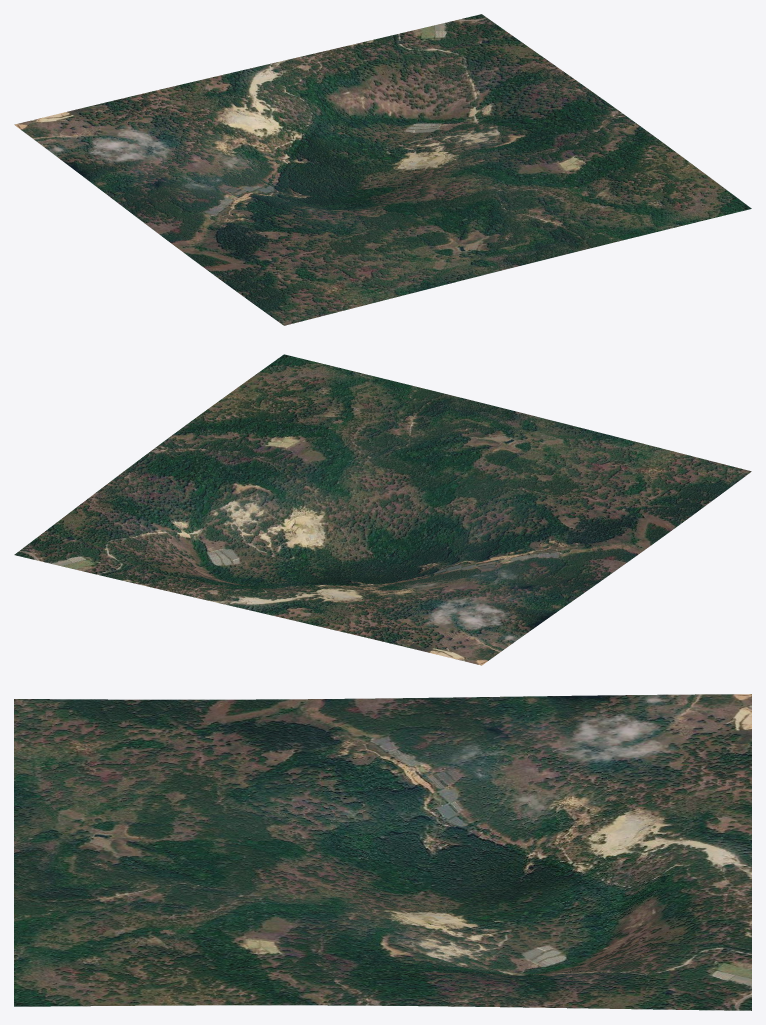
File: terrain_real_T_W05_N02.glb
3 views of the same model, one above another, from view 1: azimuth 30°, elevation 25°; view 2: azimuth 150°, elevation 25°; view 3: azimuth 270°, elevation 25° (orthographic). The views are drawn at different scales.
Parts seen in each view (by area): view 1: Terrain_Real_DEM_T_W05_N02; view 2: Terrain_Real_DEM_T_W05_N02; view 3: Terrain_Real_DEM_T_W05_N02.
Boxes of the visible parts, left/top/right/bottom form: Terrain_Real_DEM_T_W05_N02: left=14, top=14, right=751, bottom=325; Terrain_Real_DEM_T_W05_N02: left=14, top=354, right=751, bottom=665; Terrain_Real_DEM_T_W05_N02: left=14, top=694, right=751, bottom=1010.
Bounding box in the file's own units: 2000 × 145 × 2000.
Materials: 1 (1 with a texture image).
